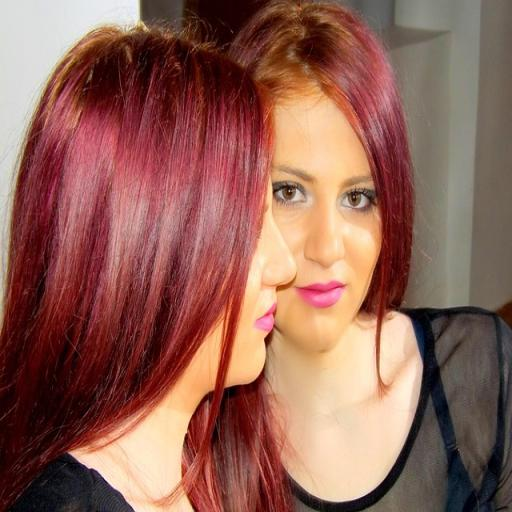lipstick: (296, 281, 344, 308), (254, 303, 277, 333)
